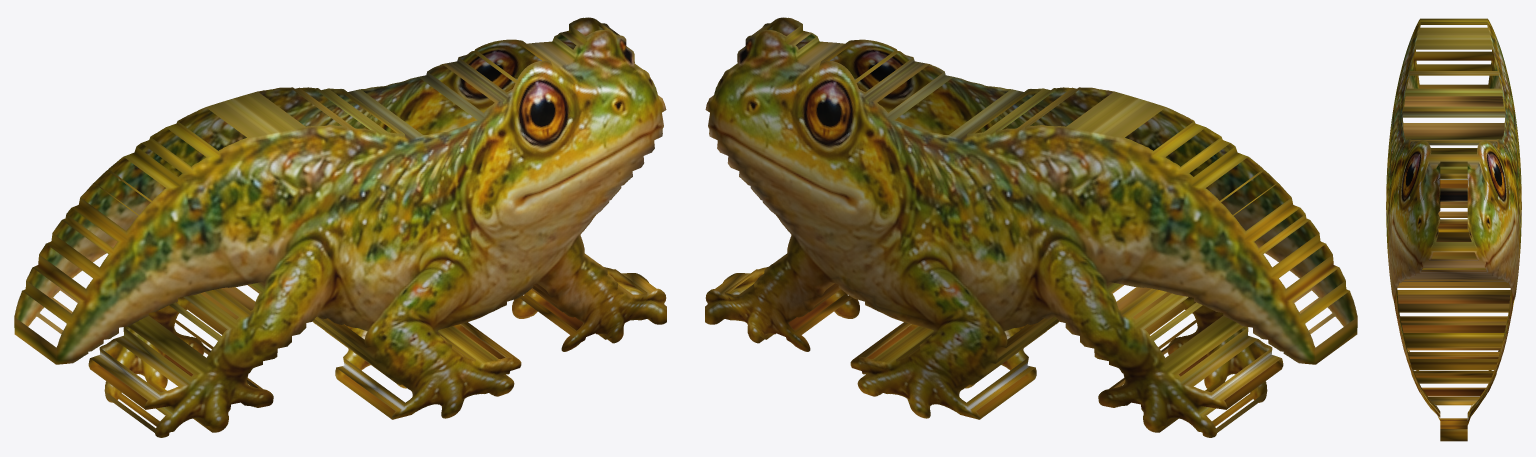
3 views of the same model, side by side, from view 1: azimuth 30°, elevation 25°; view 2: azimuth 150°, elevation 25°; view 3: azimuth 270°, elevation 25° (orthographic). The views are drawn at different scales.
Parts seen in each view (by area): view 1: organisms:2; view 2: organisms:2; view 3: organisms:2.
Boxes of the visible parts, x1=… form: organisms:2: x1=14, y1=17, x2=666, y2=437; organisms:2: x1=705, y1=17, x2=1357, y2=437; organisms:2: x1=1386, y1=18, x2=1521, y2=441.
Size of the model in its own units: 1.81 by 0.9444 by 0.42.
1 material, 1 textured.
